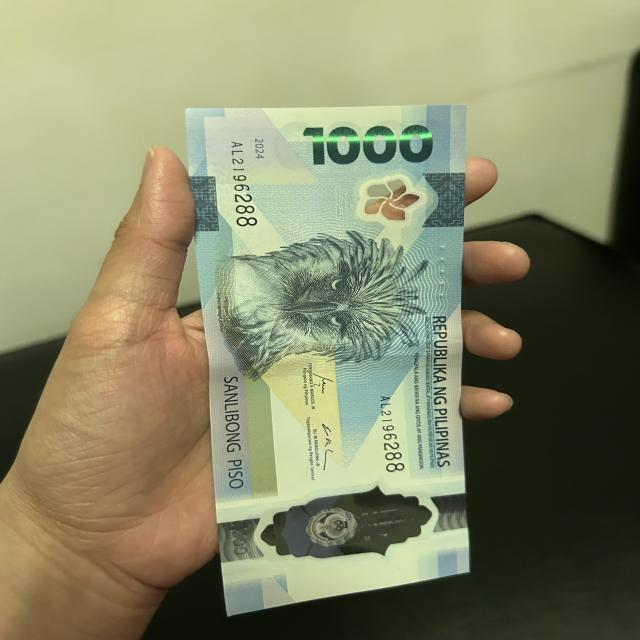clear_window: (257, 491, 444, 561)
eagle: (225, 248, 413, 360)
sampaguita: (350, 180, 423, 226)
